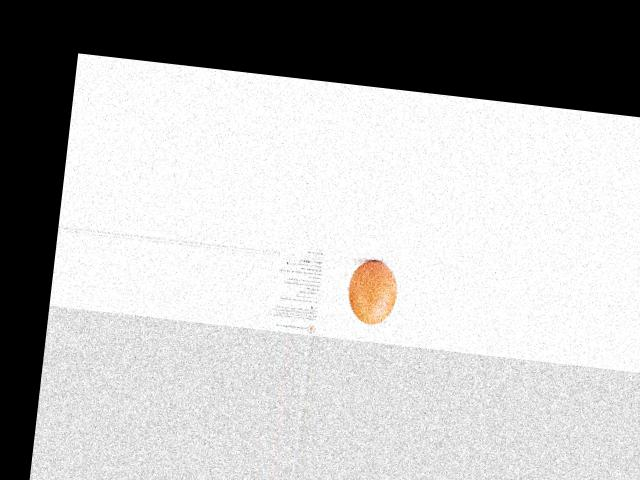egg: (344, 258, 400, 326)
